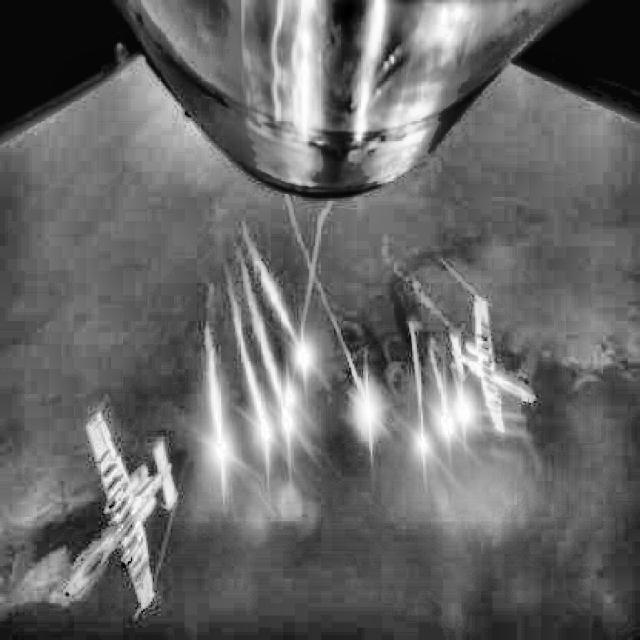A10: (64, 409, 179, 620), (449, 295, 537, 433)
